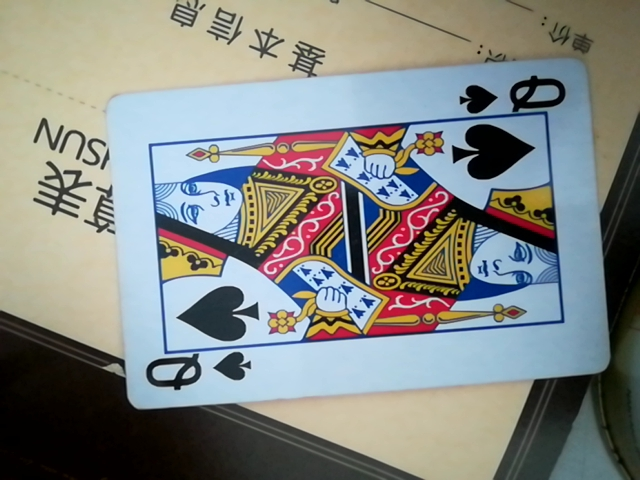ht q: (97, 55, 600, 420)
